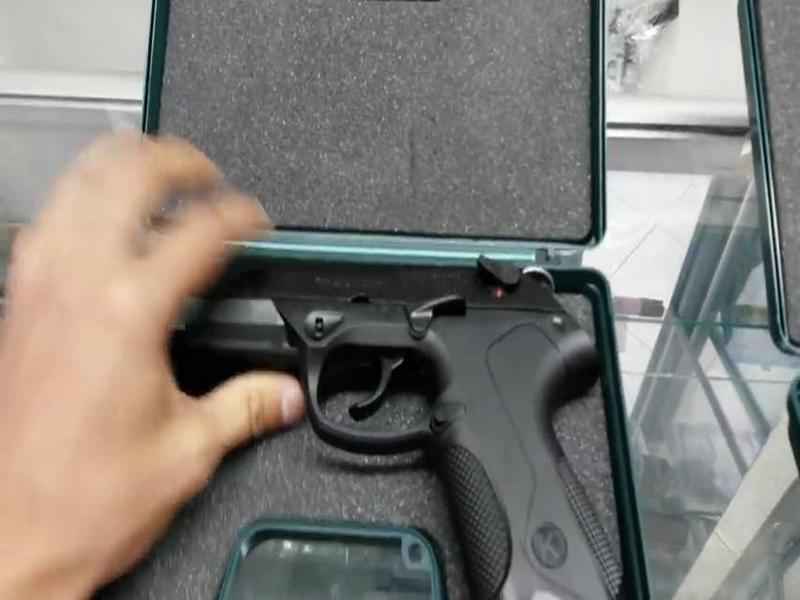Pistola: (168, 218, 627, 600)
